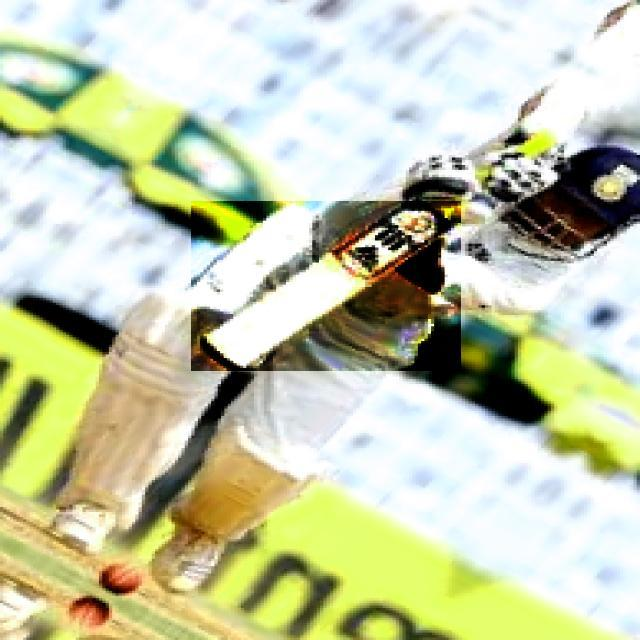bat: (194, 203, 459, 376)
toe: (197, 343, 244, 371)
